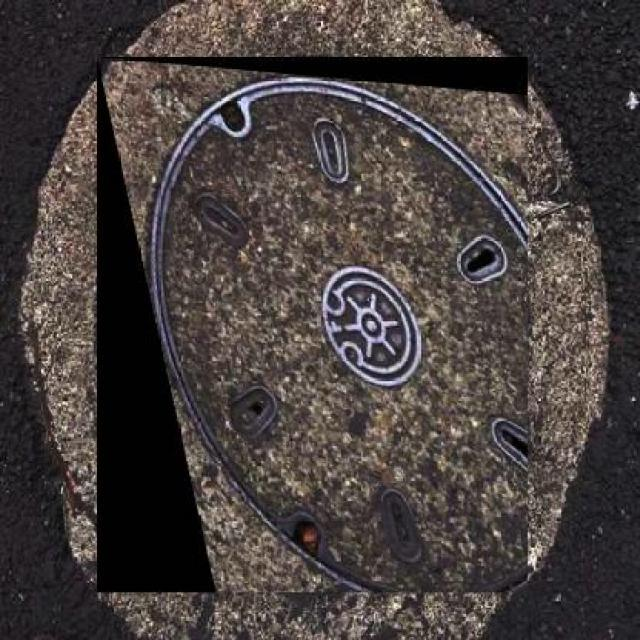Manhole: (98, 57, 529, 594)
